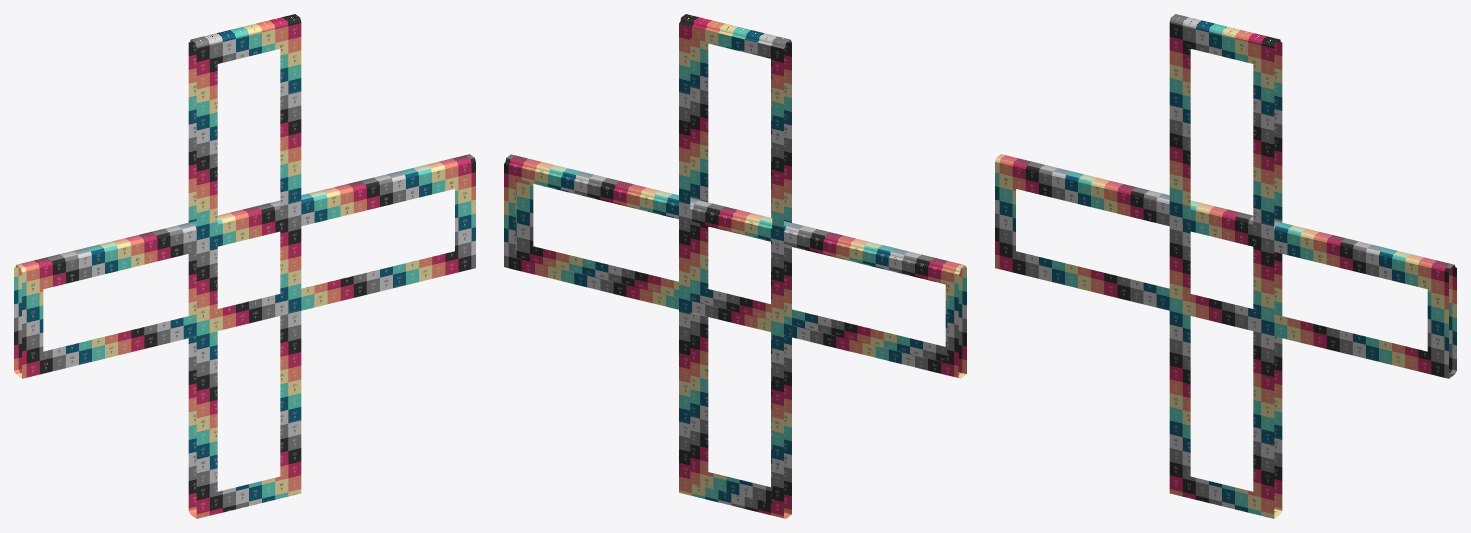
Rendered from bigPlainHole.glb.
3 renders of one model, left to right at view 1: azimuth 30°, elevation 25°; view 2: azimuth 150°, elevation 25°; view 3: azimuth 330°, elevation 25°, orthographic.
Visible parts, largest first — view 1: bigPlainWithHoleMaxUp, bigPlainWithHoleMax, bigPlainWithHoleMin; view 2: bigPlainWithHoleMax, bigPlainWithHoleMaxUp, bigPlainWithHoleMin; view 3: bigPlainWithHoleMaxUp, bigPlainWithHoleMax, bigPlainWithHoleMin.
Boxes of the visible parts, box(x1,y1,x2,y2) form: bigPlainWithHoleMaxUp: box(188, 14, 301, 518); bigPlainWithHoleMax: box(14, 154, 475, 378); bigPlainWithHoleMin: box(188, 200, 301, 330); bigPlainWithHoleMax: box(504, 154, 966, 378); bigPlainWithHoleMaxUp: box(679, 14, 791, 518); bigPlainWithHoleMin: box(679, 201, 789, 335); bigPlainWithHoleMaxUp: box(1169, 14, 1282, 518); bigPlainWithHoleMax: box(995, 154, 1456, 378); bigPlainWithHoleMin: box(1169, 200, 1282, 333).
Bounding box in the file's own units: 1.3 × 1.3 × 0.04.
Materials: 1 (1 with a texture image).
